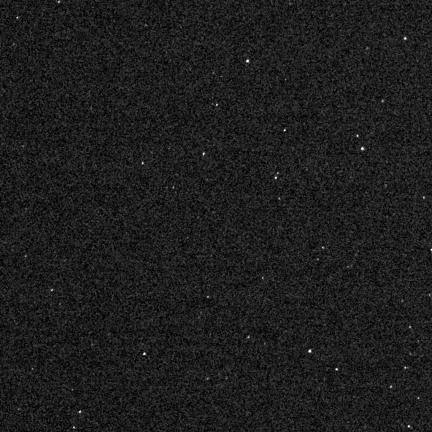blob: (308, 349, 312, 354), (246, 60, 250, 64), (284, 129, 287, 133), (361, 147, 364, 151), (404, 37, 407, 40), (357, 135, 360, 138), (203, 153, 206, 156)
